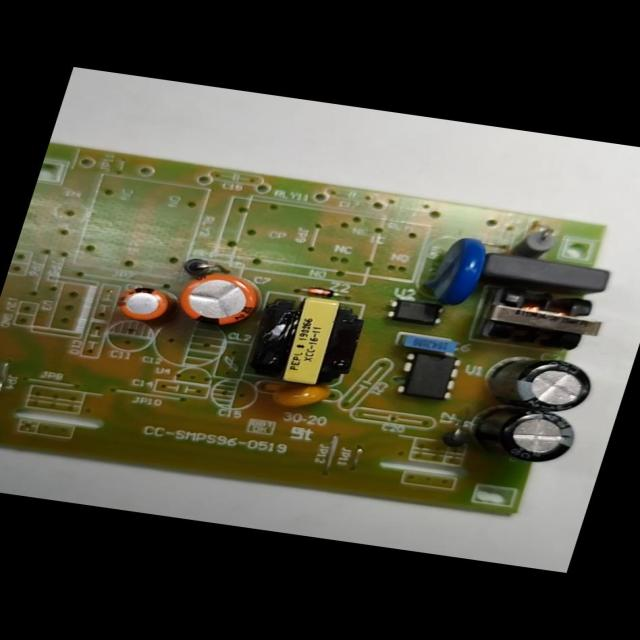Cap1: (162, 258, 272, 340)
Cap2: (102, 279, 182, 333)
Cap3: (471, 348, 605, 420)
Cap4: (449, 396, 595, 469)
MOSFET: (381, 340, 474, 406)
Mov: (406, 229, 501, 314)
Resistor: (503, 216, 567, 264)
Transformer: (237, 284, 376, 398), (468, 278, 619, 356)
